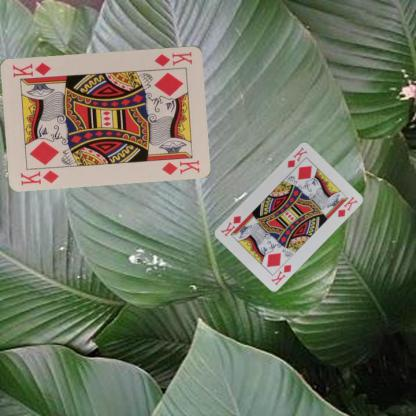Kd: (152, 49, 194, 68), (18, 168, 61, 186), (284, 144, 309, 169), (269, 262, 293, 286)
